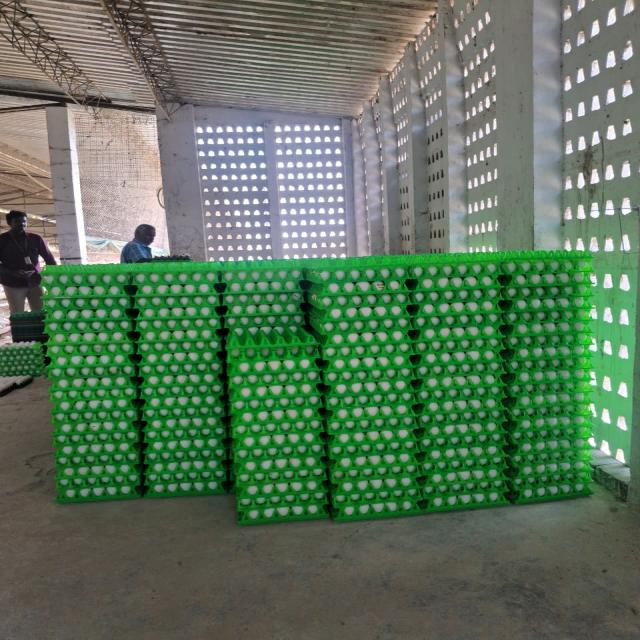egg_tray: (413, 256, 507, 510), (412, 256, 505, 510), (133, 263, 227, 496), (505, 256, 591, 502), (228, 328, 327, 523), (317, 330, 419, 519), (228, 330, 327, 523), (306, 258, 412, 430), (322, 341, 419, 519), (47, 320, 141, 501), (137, 314, 227, 496), (507, 319, 590, 501), (323, 368, 419, 518), (47, 352, 141, 501), (416, 358, 506, 510), (48, 354, 141, 501), (43, 266, 136, 411), (49, 356, 141, 501), (416, 372, 507, 510), (413, 258, 502, 398), (505, 261, 589, 404), (141, 361, 227, 496), (141, 358, 226, 494), (141, 372, 227, 496), (413, 260, 501, 378), (134, 264, 222, 381), (43, 266, 133, 378), (503, 258, 591, 370), (319, 332, 414, 434), (227, 332, 321, 434), (411, 256, 501, 362), (227, 343, 323, 442), (52, 400, 141, 501), (327, 426, 421, 520), (419, 412, 507, 511), (414, 316, 503, 413), (45, 321, 137, 411), (329, 430, 420, 520), (235, 434, 327, 523), (421, 416, 507, 511), (507, 405, 591, 501), (305, 258, 410, 334), (54, 412, 141, 501), (305, 260, 410, 333), (144, 404, 227, 496), (507, 412, 591, 502), (47, 330, 139, 412), (323, 372, 415, 454), (316, 330, 412, 408), (503, 257, 591, 338), (133, 262, 221, 341), (413, 314, 503, 391), (144, 416, 227, 496), (323, 362, 414, 434), (47, 338, 137, 410), (411, 256, 501, 328), (235, 454, 328, 523), (235, 456, 328, 524), (415, 366, 504, 437), (508, 426, 591, 502), (227, 328, 317, 398), (504, 346, 589, 418), (412, 311, 503, 376), (141, 352, 223, 422), (416, 348, 505, 411), (221, 260, 303, 328), (416, 352, 504, 414), (227, 328, 319, 387), (318, 331, 413, 387), (230, 407, 323, 462), (43, 265, 132, 322), (331, 464, 421, 520), (54, 412, 139, 471), (56, 443, 141, 502), (133, 263, 221, 318), (305, 256, 431, 294), (327, 406, 416, 457), (330, 471, 421, 520), (307, 289, 410, 332), (52, 405, 140, 455), (503, 287, 589, 338), (237, 476, 328, 524), (504, 320, 591, 370), (503, 358, 589, 408), (56, 452, 140, 502), (305, 256, 415, 294), (307, 280, 409, 320), (231, 408, 323, 452), (312, 330, 413, 370), (137, 316, 222, 363), (222, 280, 303, 329), (45, 322, 135, 364), (502, 252, 591, 294), (503, 256, 591, 298), (408, 254, 503, 292), (230, 456, 326, 492), (49, 371, 137, 410), (323, 352, 413, 390), (145, 454, 225, 496), (305, 303, 411, 334), (139, 340, 222, 378), (223, 290, 303, 329), (139, 351, 223, 388), (132, 262, 221, 296), (45, 308, 135, 341), (43, 266, 133, 298), (43, 288, 131, 320), (221, 262, 302, 296), (135, 310, 221, 342), (509, 470, 592, 503), (221, 260, 302, 292), (47, 352, 137, 380), (45, 304, 133, 331), (141, 370, 224, 398), (46, 273, 130, 300), (134, 292, 219, 318), (42, 264, 138, 286), (51, 400, 139, 424), (225, 305, 303, 329), (136, 300, 219, 320), (0, 342, 43, 376), (9, 309, 46, 343), (66, 374, 130, 390), (0, 375, 33, 396), (11, 309, 45, 329), (514, 393, 549, 408), (230, 328, 269, 341), (356, 381, 391, 393), (231, 398, 268, 409), (99, 318, 130, 329), (260, 434, 299, 442), (87, 376, 103, 388), (424, 402, 439, 414), (146, 402, 171, 409), (534, 260, 546, 274), (323, 365, 335, 378), (479, 326, 496, 334), (417, 334, 429, 345), (309, 507, 323, 516), (359, 334, 370, 345), (144, 392, 158, 399), (271, 328, 283, 336), (459, 292, 470, 300), (181, 332, 195, 338), (423, 357, 435, 364), (280, 397, 288, 406), (467, 327, 477, 334), (452, 346, 462, 353), (281, 443, 294, 448), (201, 340, 217, 344), (293, 509, 303, 515), (581, 308, 587, 318), (272, 328, 282, 334), (385, 397, 394, 403), (176, 402, 189, 406), (541, 297, 551, 302), (292, 485, 299, 492), (444, 404, 452, 410), (230, 468, 234, 480), (110, 378, 118, 384), (353, 282, 369, 285), (242, 451, 248, 458), (340, 398, 347, 404), (578, 260, 585, 266), (559, 461, 567, 466), (449, 392, 459, 396), (457, 405, 466, 409), (471, 380, 477, 386), (197, 335, 206, 339), (267, 512, 273, 518), (376, 388, 383, 393), (377, 342, 385, 346), (407, 398, 412, 404), (356, 386, 361, 392), (341, 371, 351, 374), (164, 334, 170, 339), (118, 402, 125, 406), (255, 287, 264, 290), (215, 362, 221, 366), (497, 392, 501, 398), (185, 382, 191, 386), (215, 346, 221, 350), (157, 403, 164, 406), (126, 321, 129, 328), (505, 292, 509, 297), (359, 389, 363, 394), (50, 367, 54, 372), (405, 368, 410, 372), (519, 348, 529, 350), (425, 395, 430, 399), (259, 330, 264, 334), (570, 338, 575, 342), (363, 307, 372, 309), (207, 401, 213, 404), (159, 394, 162, 400), (391, 284, 395, 288), (559, 416, 567, 418), (251, 516, 255, 520), (507, 350, 512, 353), (231, 448, 232, 462), (361, 406, 365, 409), (386, 461, 390, 464), (567, 262, 570, 266), (579, 292, 582, 296), (61, 302, 64, 306), (121, 372, 127, 374), (303, 333, 307, 336), (455, 357, 459, 360), (108, 448, 113, 450), (379, 335, 381, 340), (70, 276, 73, 279), (125, 364, 129, 366), (527, 264, 531, 266), (165, 381, 167, 385), (207, 308, 209, 312), (173, 353, 177, 355), (58, 380, 62, 382), (58, 448, 60, 452), (546, 347, 553, 348), (488, 254, 491, 256), (169, 403, 171, 406), (400, 408, 402, 411), (145, 433, 147, 436), (127, 322, 129, 325), (514, 300, 517, 302), (301, 395, 303, 398), (167, 404, 169, 406), (495, 362, 499, 363), (83, 450, 84, 454), (82, 495, 86, 496), (430, 378, 432, 380), (227, 299, 229, 301), (95, 401, 98, 402), (372, 283, 375, 284), (474, 256, 475, 258), (165, 300, 166, 302), (516, 299, 517, 301), (534, 299, 535, 301), (451, 398, 452, 400), (227, 344, 228, 346), (149, 422, 150, 424), (436, 418, 437, 420), (328, 337, 330, 338), (234, 300, 236, 301), (227, 285, 228, 286), (256, 516, 257, 517), (363, 402, 363, 403), (58, 359, 59, 359), (329, 405, 331, 405), (365, 390, 365, 392), (539, 394, 539, 394), (537, 319, 538, 319), (386, 416, 388, 416), (357, 412, 357, 412), (399, 447, 402, 447), (336, 443, 337, 443), (250, 339, 252, 339), (301, 334, 304, 334), (509, 352, 510, 352), (523, 350, 524, 350), (89, 374, 90, 374), (76, 403, 77, 403), (125, 401, 125, 401), (93, 387, 94, 387), (72, 381, 74, 381), (489, 407, 492, 407), (466, 394, 468, 394), (151, 366, 152, 366), (181, 354, 181, 354), (208, 319, 210, 319), (279, 514, 279, 514), (84, 328, 85, 328), (340, 394, 342, 394), (409, 381, 409, 382), (523, 381, 525, 381), (509, 314, 511, 314), (438, 417, 439, 417), (323, 350, 323, 350), (396, 336, 397, 336), (351, 334, 352, 334), (122, 450, 124, 450), (91, 401, 93, 401), (55, 318, 60, 318), (461, 388, 461, 392), (429, 378, 430, 378), (149, 266, 153, 266)
